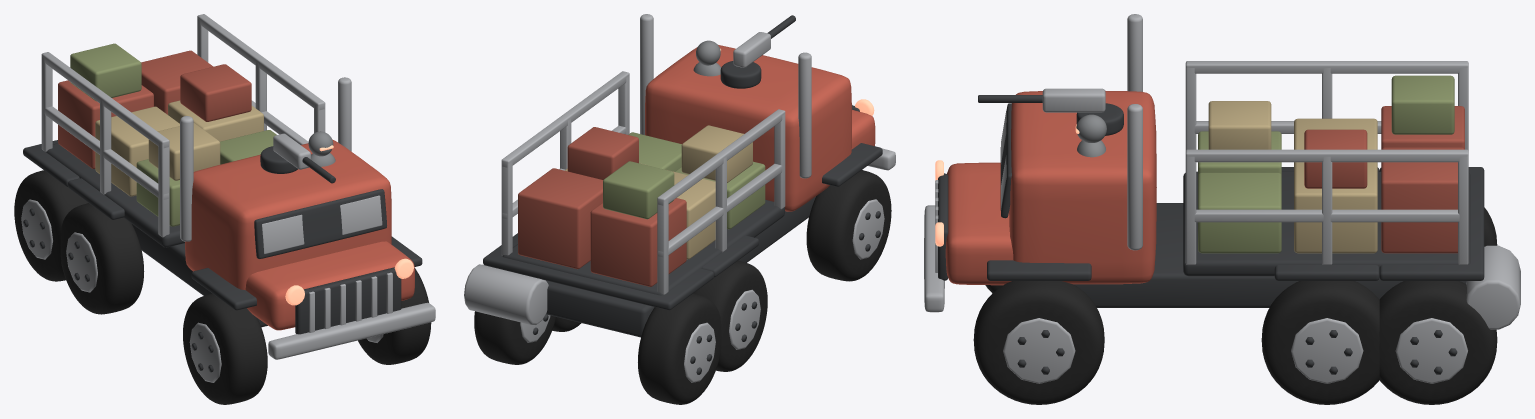
File: vehicle_transporter.glb
3 views of the same model, side by side, from view 1: azimuth 30°, elevation 25°; view 2: azimuth 150°, elevation 25°; view 3: azimuth 270°, elevation 25° (orthographic). The views are drawn at different scales.
Parts seen in each view (by area): view 1: Cube.001, Cylinder.011, Cylinder.025, Cube.002, Cube.013, Cylinder.039, Cube.006, Cube.036, Cube.003, Cube.032, Cube.033, Cube.031 (+30 smaller); view 2: Cube.001, Cube.037, Cylinder.039, Cylinder.011, Cube.032, Cube, Cylinder.041, Cube.016, Cylinder.025, Cube.018, Cube.033, Cube.036 (+26 smaller); view 3: Cube.001, Cylinder.004 (×2), Cylinder.018, Cylinder.032, Cube, Cube.002, Cube.037, Cube.018, Cube.034, Cube.035, Cube.027, Cube.033 (+27 smaller).
Part boxes in pixels (x1,y1,x2,y2): Cube.001: [185, 139, 391, 289]; Cylinder.011: [183, 293, 267, 404]; Cylinder.025: [60, 203, 144, 314]; Cube.002: [245, 241, 414, 330]; Cube.013: [268, 302, 435, 359]; Cylinder.039: [14, 170, 88, 281]; Cube.006: [295, 267, 401, 334]; Cube.036: [180, 64, 251, 121]; Cube.003: [254, 189, 386, 258]; Cube.032: [58, 80, 153, 168]; Cube.033: [70, 43, 141, 101]; Cube.031: [95, 106, 179, 196]; Cube.001: [645, 45, 851, 211]; Cube.037: [518, 168, 603, 269]; Cylinder.039: [638, 293, 721, 404]; Cylinder.011: [806, 170, 891, 281]; Cube.032: [590, 198, 686, 286]; Cube: [546, 196, 815, 337]; Cylinder.041: [464, 264, 548, 325]; Cube.016: [483, 233, 713, 310]; Cylinder.025: [693, 260, 767, 371]; Cube.018: [502, 199, 784, 295]; Cube.033: [603, 161, 674, 219]; Cube.036: [567, 127, 638, 179]; Cube.001: [1009, 90, 1156, 284]; Cylinder.004 (×2): [973, 281, 1104, 404]; Cylinder.018: [1261, 281, 1379, 404]; Cylinder.032: [1379, 281, 1497, 404]; Cube: [1074, 203, 1466, 307]; Cube.002: [945, 162, 1013, 285]; Cube.037: [1381, 147, 1464, 253]; Cube.018: [1183, 171, 1470, 276]; Cube.034: [1198, 172, 1281, 253]; Cube.035: [1294, 162, 1377, 253]; Cube.027: [1185, 149, 1468, 162]; Cube.033: [1391, 75, 1454, 134].
Bounding box in the file's own units: 1.61 × 1.85 × 3.42.
